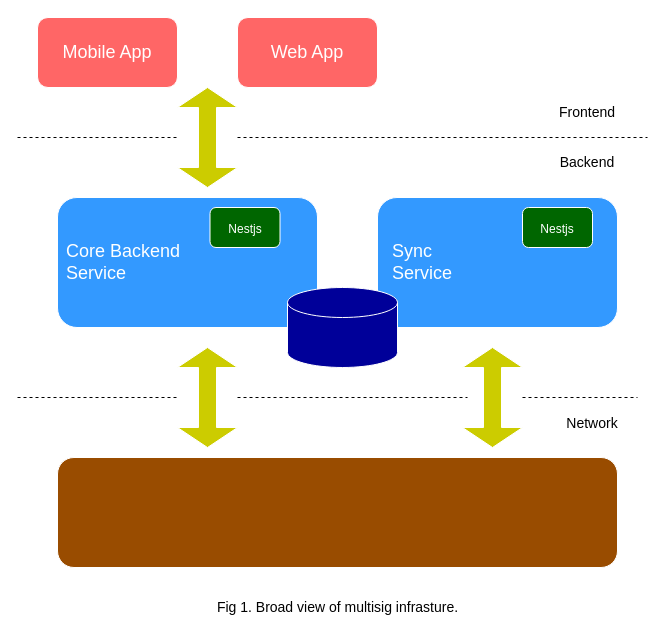
Some shapes in this 666 by 635 pixel diagram are drawn without their labels. The shapes that lost their labels are listed below. From the top down, each one's box as (x1, y1, x2, y2) in pixels, then its label:
(286, 286, 398, 368): MySQL
(56, 456, 618, 568): Aura Network
